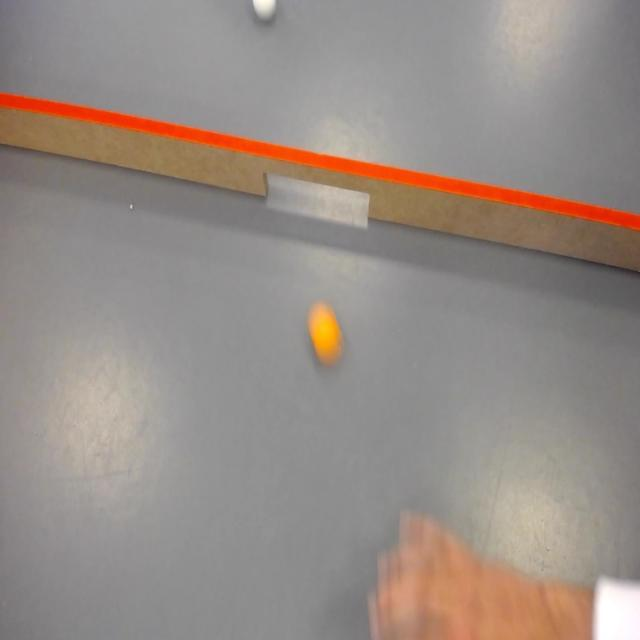orange: (307, 305, 344, 363)
